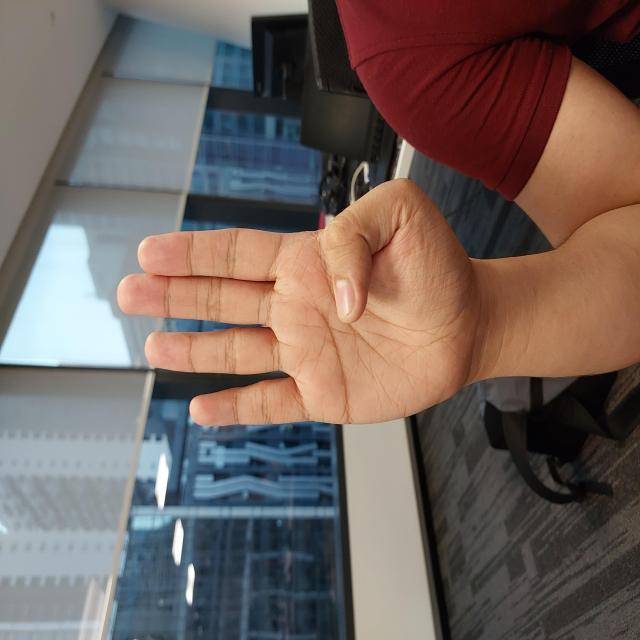B: (211, 116, 464, 482)
